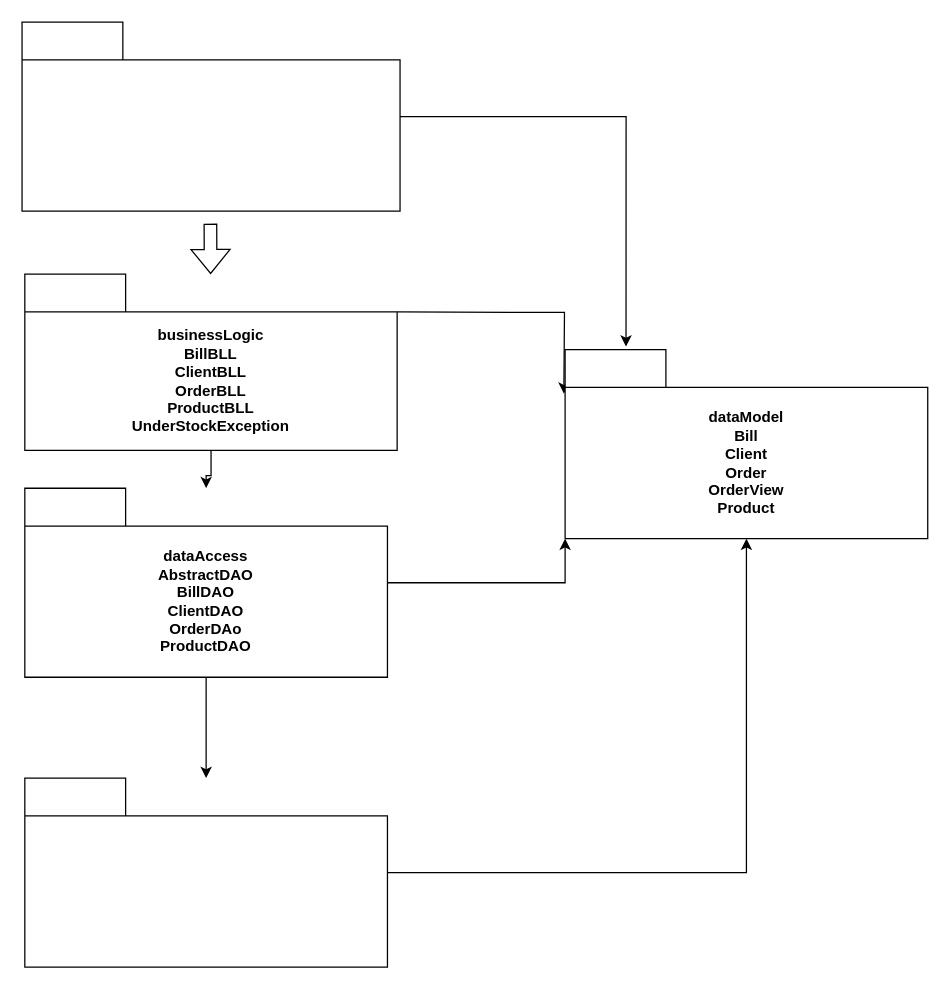
The diagram is 950 pixels wide and 989 high, and some of its shapes have lost their labels. The centre of each missing label's shape, as x and y in pixels:
"connection ConnectionFactory" goes at (205,872).
"presentation BillWindow ClientWindow MainApp OrderWindow ProductWindow Table" goes at (210,116).
